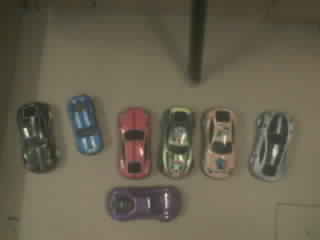Car: (249, 111, 293, 181), (17, 102, 55, 172), (159, 107, 193, 178), (107, 187, 180, 220), (201, 108, 235, 178), (118, 107, 151, 178), (67, 94, 102, 154)
